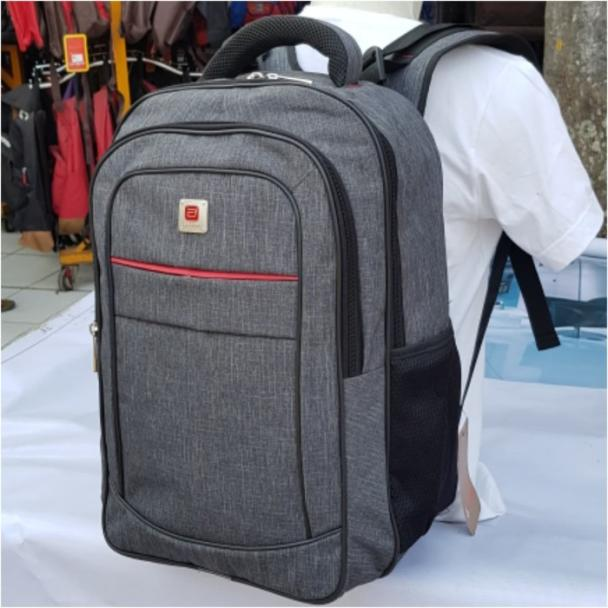Tas: (87, 13, 486, 608)
